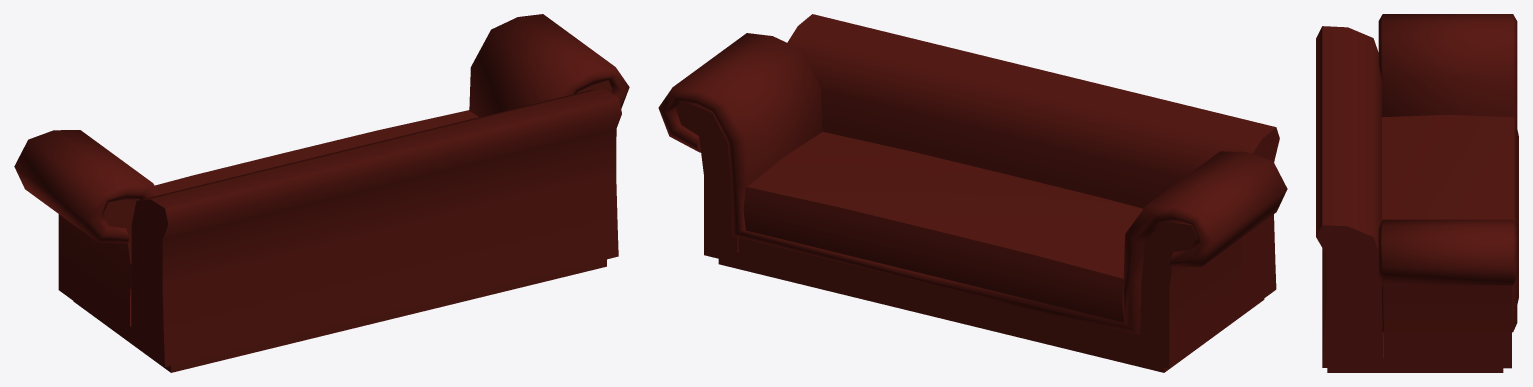
The model's file is SM_Couch_A.fbx.
The picture shows the model from 3 angles, left to right: view 1: azimuth 30°, elevation 25°; view 2: azimuth 150°, elevation 25°; view 3: azimuth 270°, elevation 25°; orthographic projection. The views are drawn at different scales.
Parts seen in each view (by area): view 1: SM_Couch_A; view 2: SM_Couch_A; view 3: SM_Couch_A.
Part boxes in pixels (x1,y1,x2,y2): SM_Couch_A: (14,14,629,372); SM_Couch_A: (658,14,1287,372); SM_Couch_A: (1316,14,1518,372).
Bounding box in the file's own units: 333 × 100 × 120.
